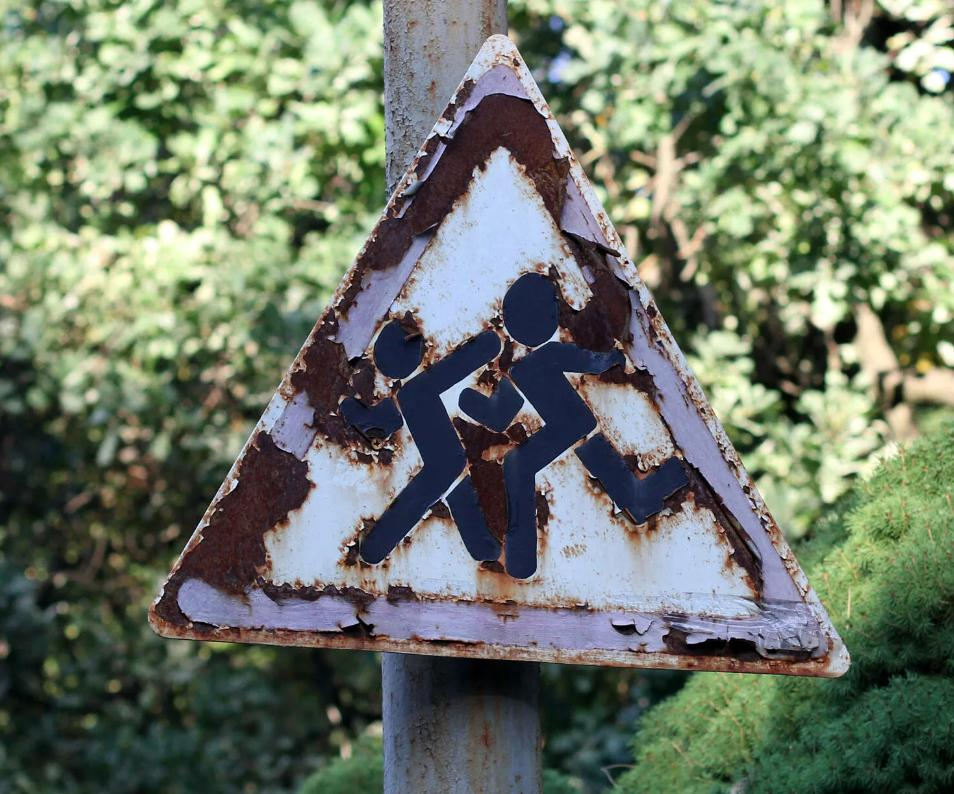obstructed_road_sign: (149, 35, 848, 676)
